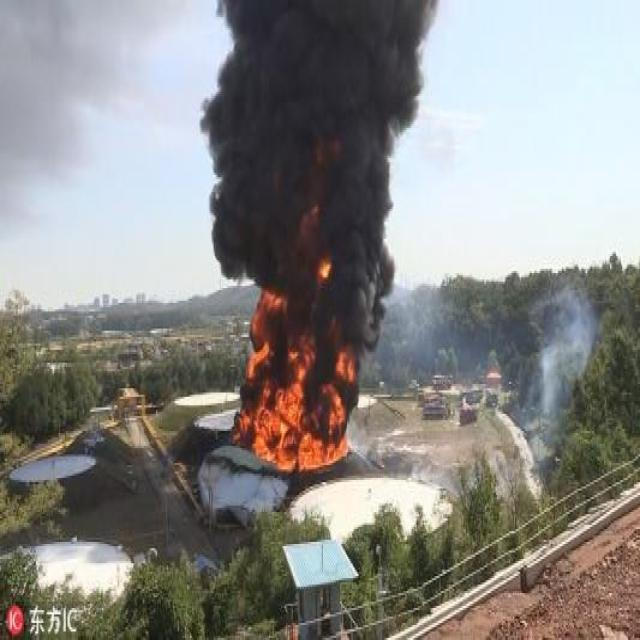Fire: (233, 292, 357, 474)
Smoke: (197, 2, 442, 455), (524, 280, 596, 450)
